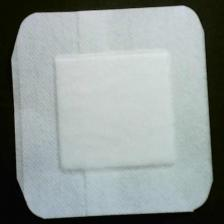Dressing: (9, 5, 215, 220)
